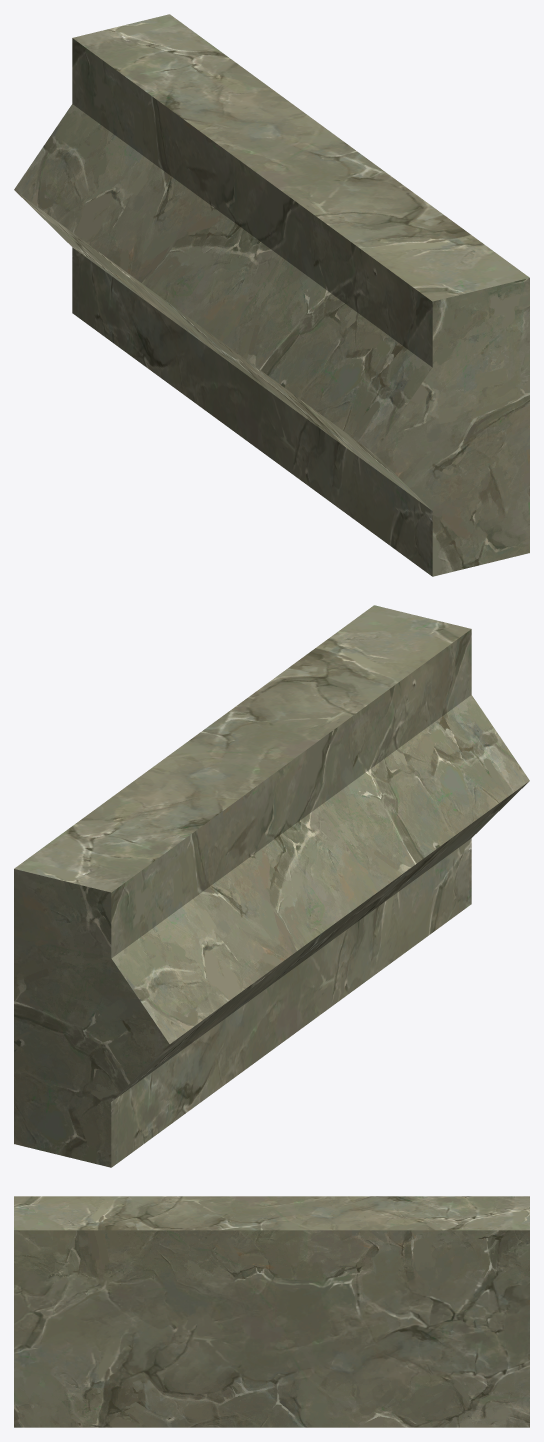
Rendered from Ruins_Collumn_8M_B.obj.
3 renders of one model, top to bottom at view 1: azimuth 30°, elevation 25°; view 2: azimuth 150°, elevation 25°; view 3: azimuth 270°, elevation 25°, orthographic. The views are drawn at different scales.
Visible parts, largest first — view 1: Dn_HL_Ruins_Collumn_8M_B; view 2: Dn_HL_Ruins_Collumn_8M_B; view 3: Dn_HL_Ruins_Collumn_8M_B.
Part boxes in pixels (x1,y1,x2,y2): Dn_HL_Ruins_Collumn_8M_B: [14, 14, 529, 576]; Dn_HL_Ruins_Collumn_8M_B: [14, 605, 529, 1167]; Dn_HL_Ruins_Collumn_8M_B: [14, 1196, 529, 1427].
Bounding box in the file's own units: 2 × 3.37 × 8.
